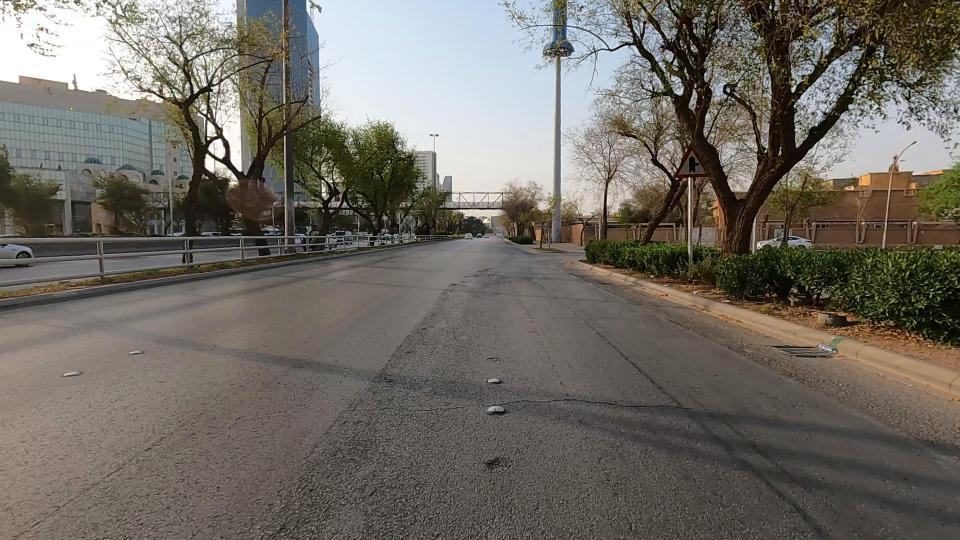GRAFFITI: (399, 234, 530, 336)
